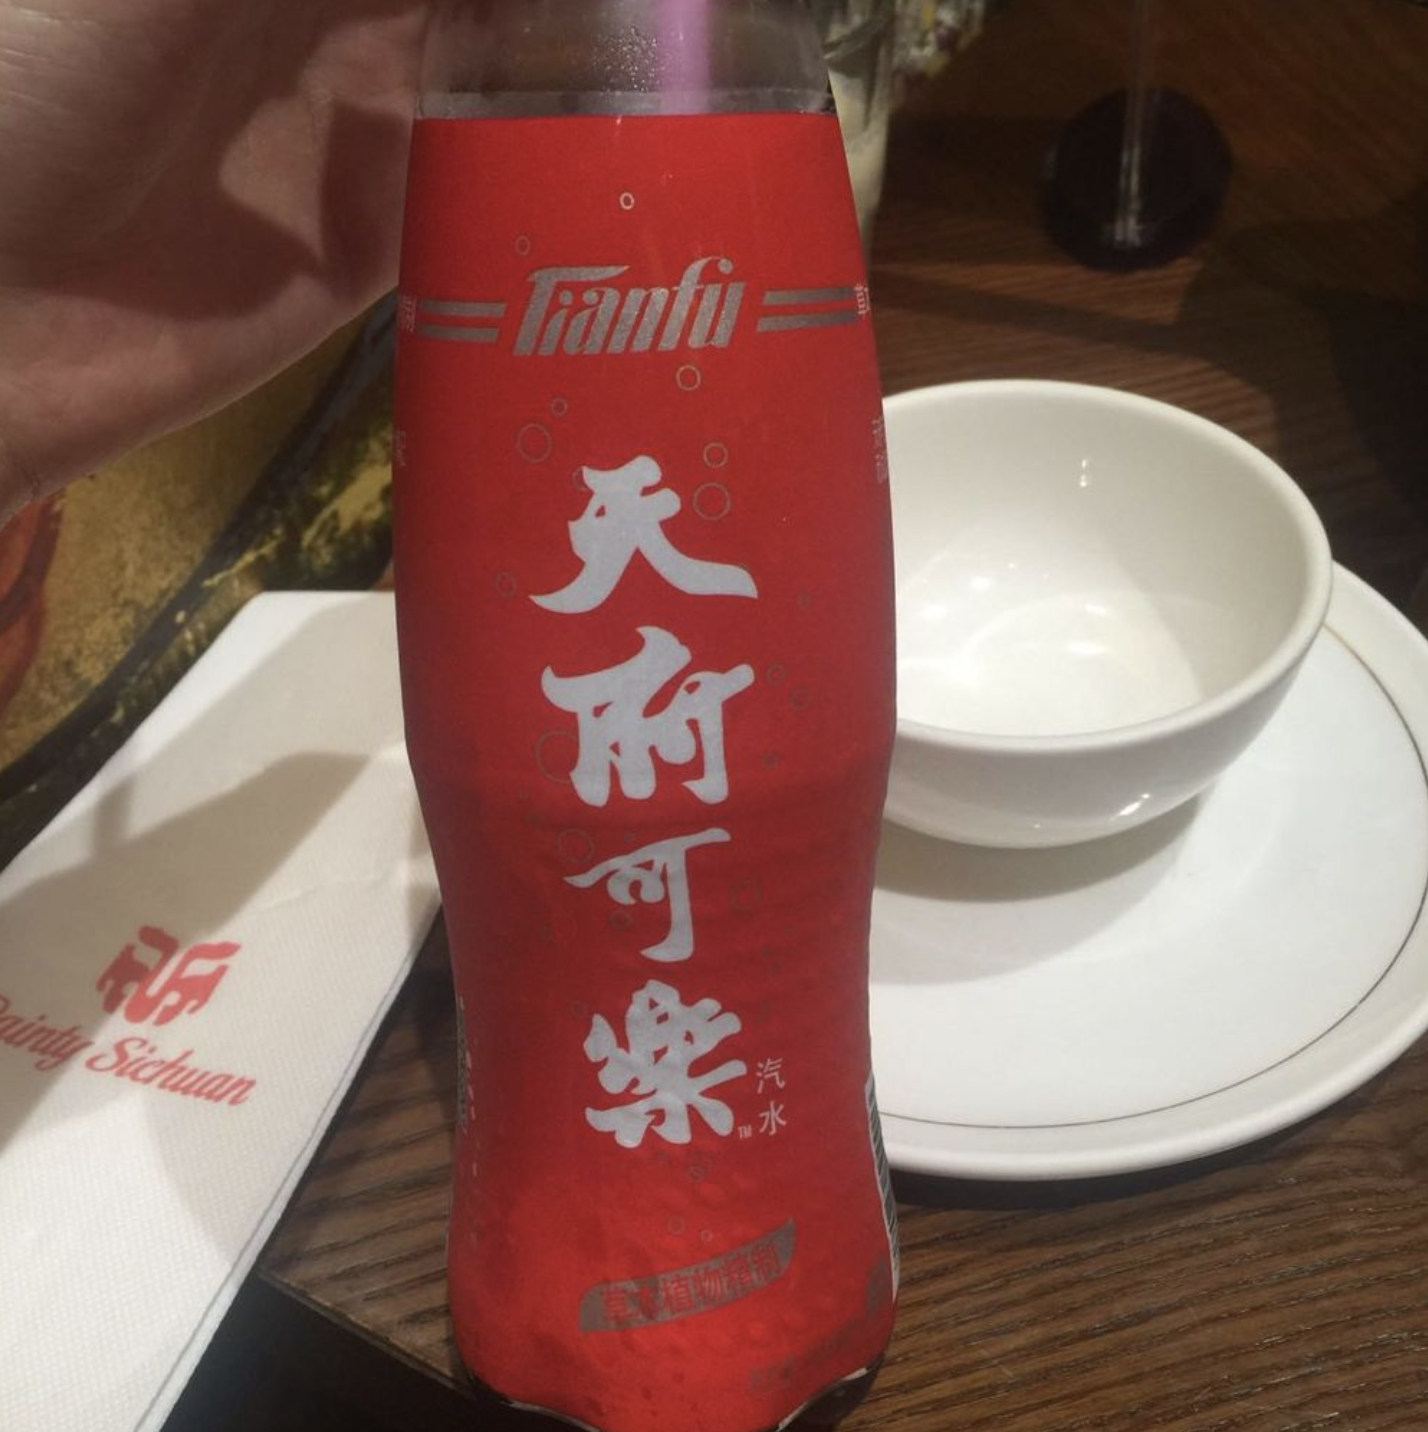天府可乐: (381, 12, 904, 1412)
